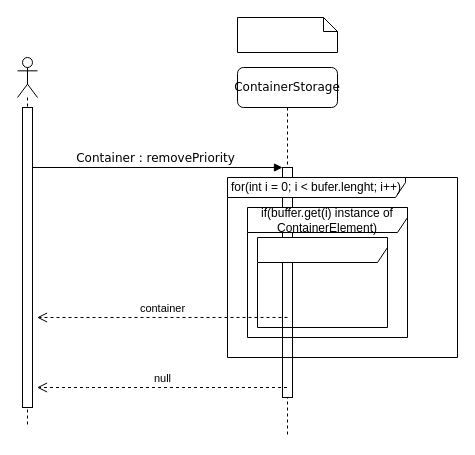
Image size: 475x455. Some labels were removed from this diagram. Here are the shapes that lost their labels. From the top down, the centre of each, then its label:
(287,34): buffer = array of containers
(322,282): syncronized(buffer)
